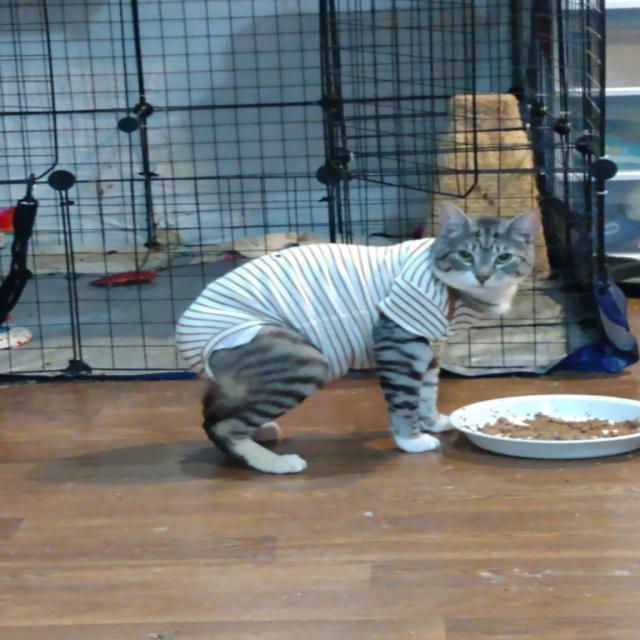manx_cat: (408, 190, 545, 310)
